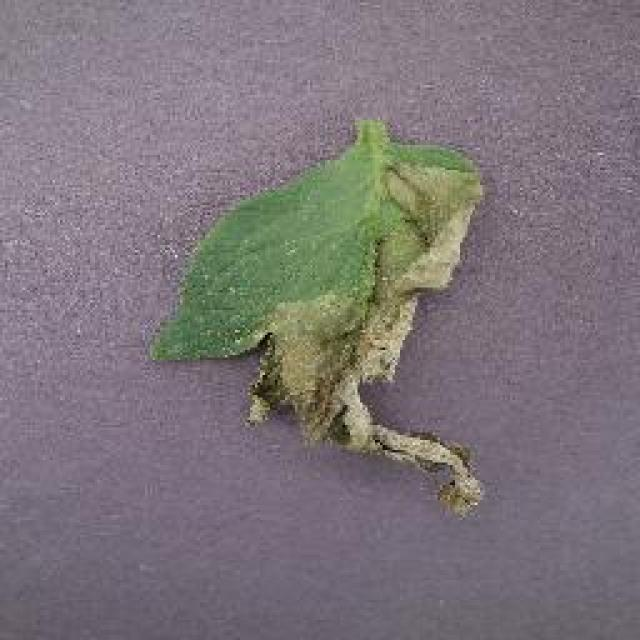Tomato Late Blight: (284, 203, 538, 407)
